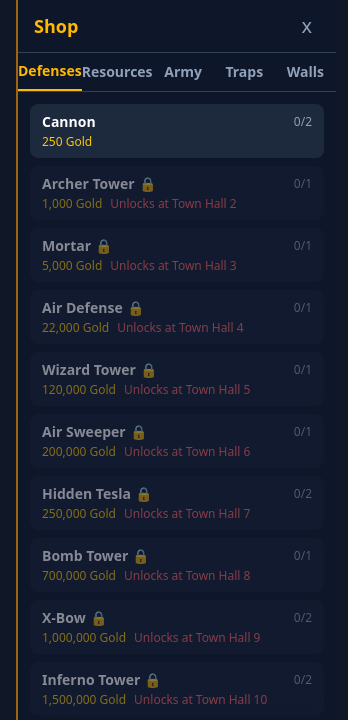
Test: ShopPanel › shows a locked wall entry at TH1 with an unlock hint
This screenshot has width=348, height=720.
Click the button "Walls". click: [305, 72]
box: [275,53,336,91]
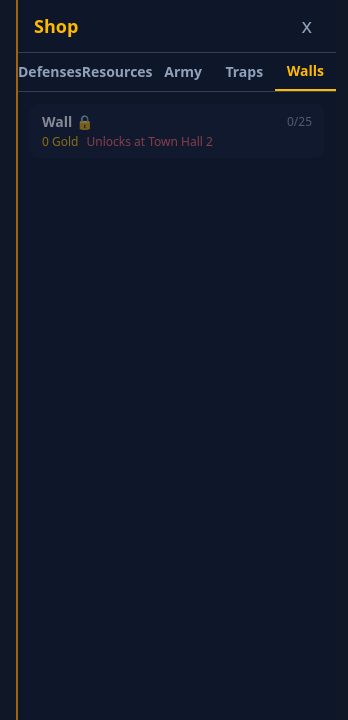
Expected: the text "Unlocks at Town Hall 2" is shown, [86,133,213,150]
Result: the button "Wall" is disabled at [30,104,324,158]
